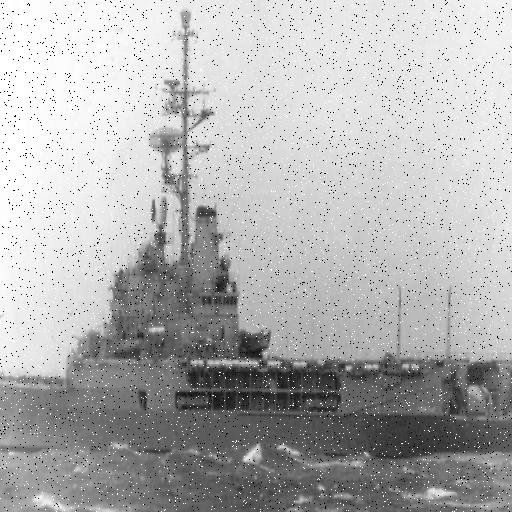Portanaves: (1, 14, 512, 464)
